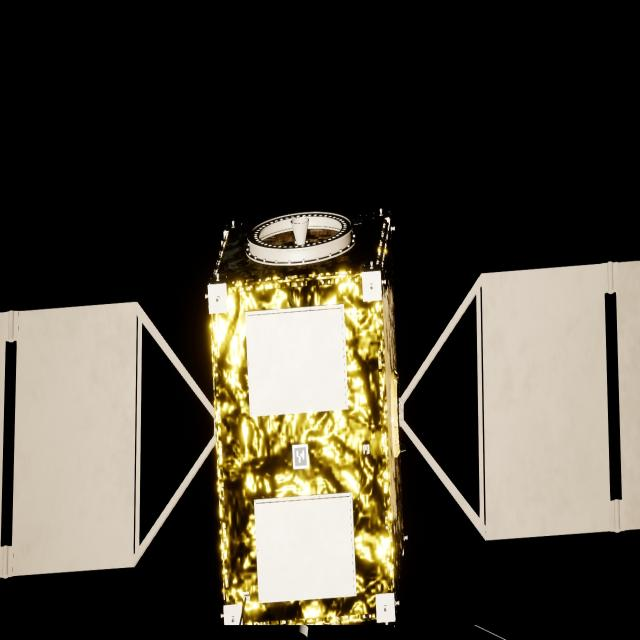satellite: (0, 212, 640, 627)
